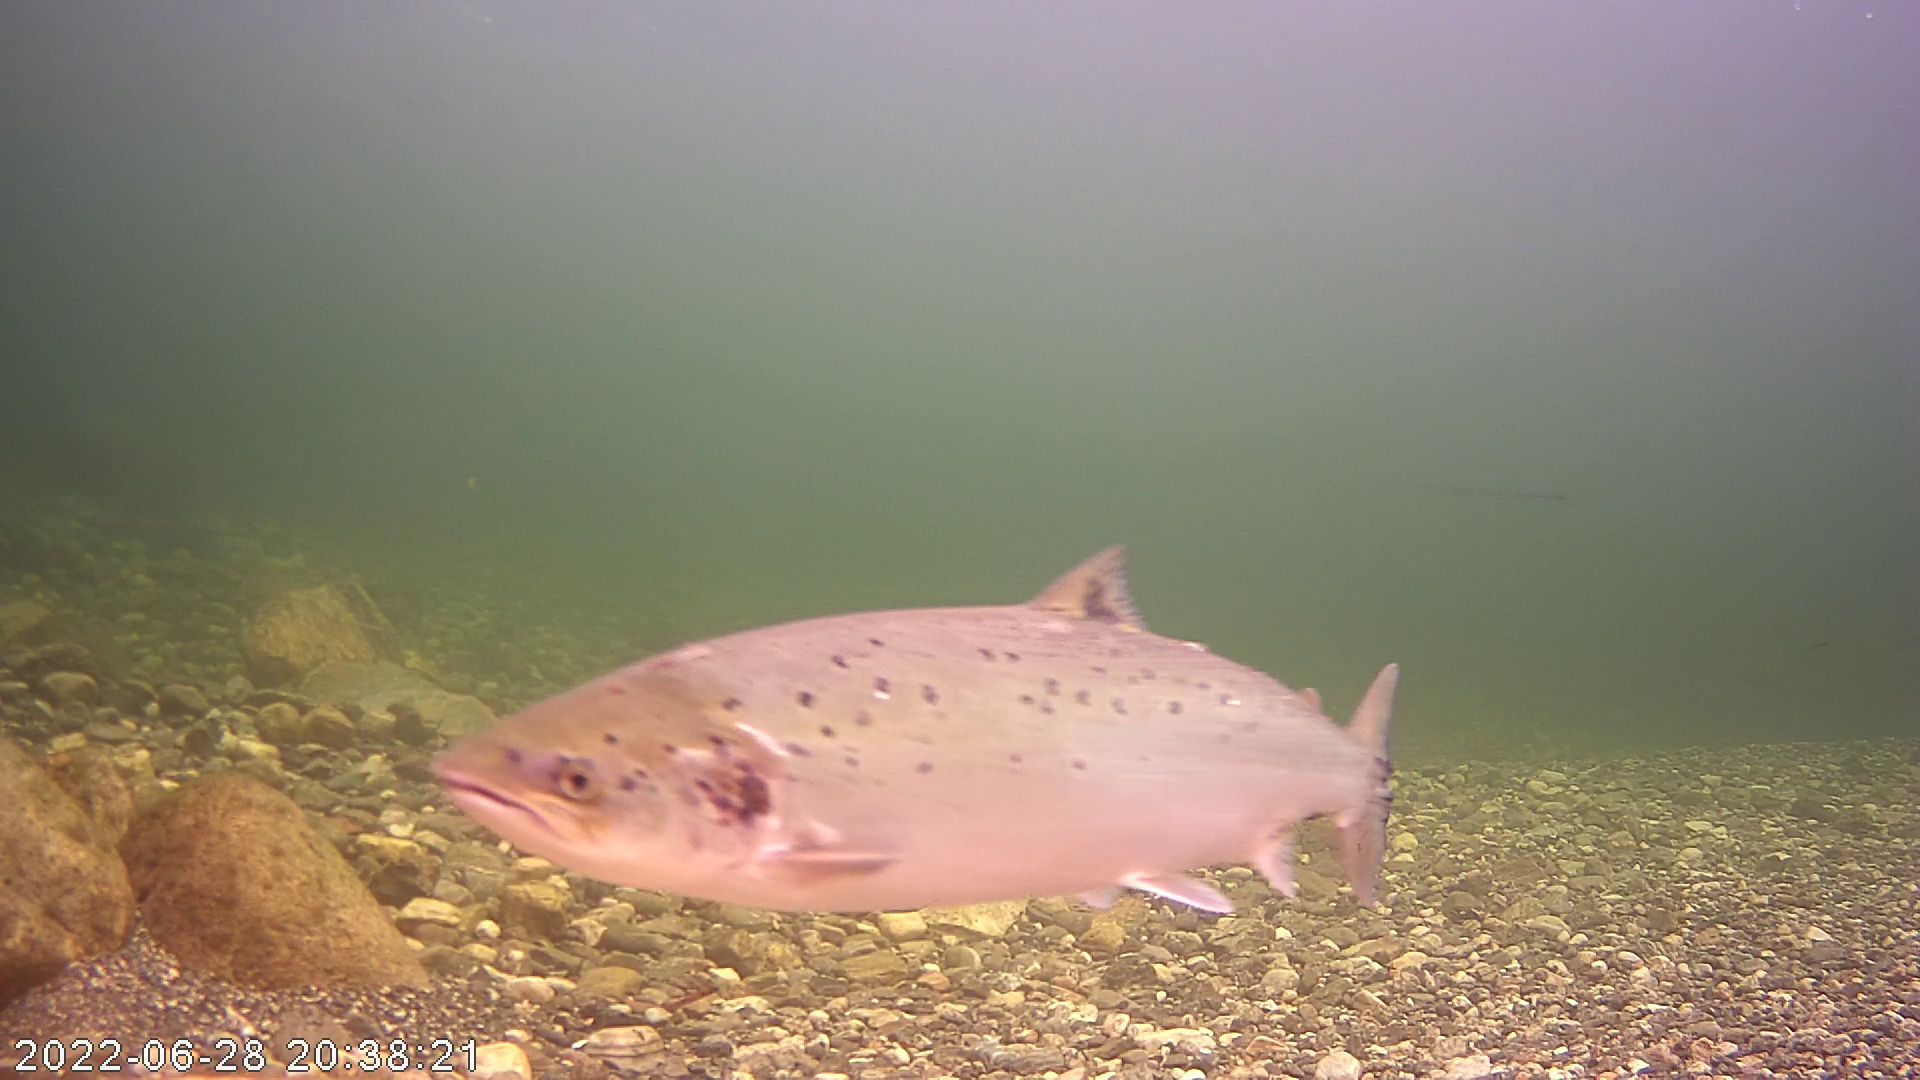salmon: (415, 534, 1408, 932)
